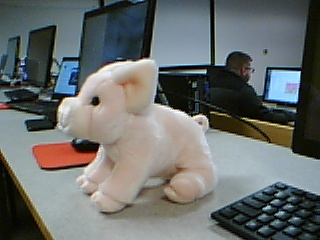piggy: (54, 57, 219, 214)
